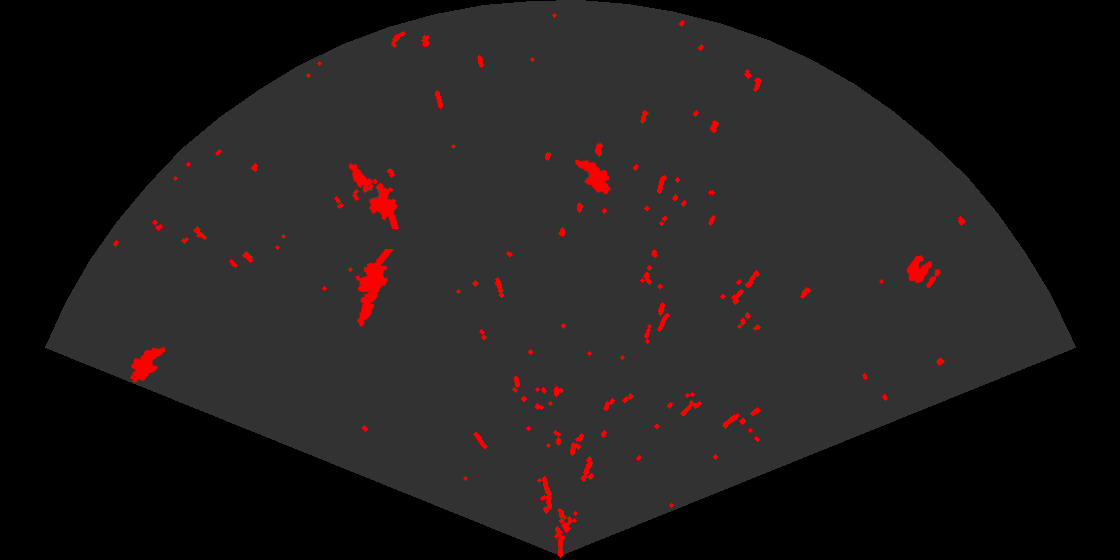AUV: (129, 345, 167, 384), (573, 158, 612, 196)
ball: (905, 254, 943, 290)
frogman: (347, 161, 401, 229), (354, 249, 395, 328)
